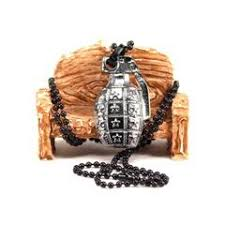e1: (95, 56, 151, 149)
